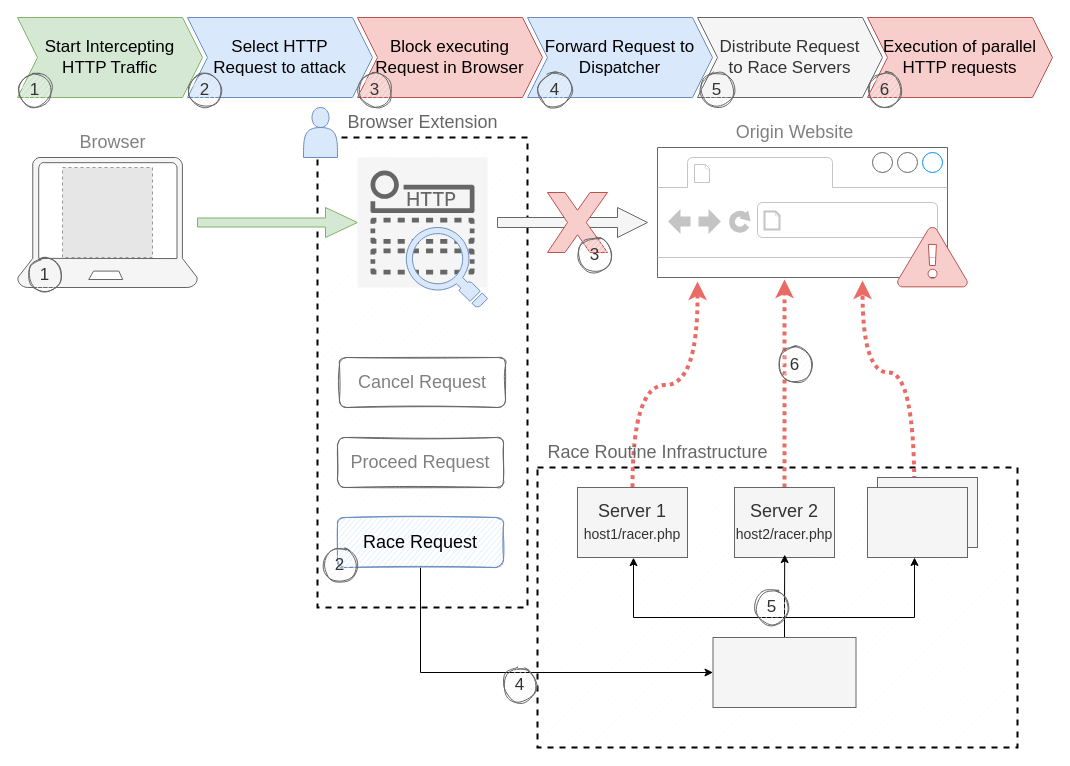
Some shapes in this 1070 by 766 pixel diagram are drawn without their labels. Grey dashed boxes stand in for pictures. The shapes that lost their labels are listed below. From the top down, each one's centre as x and y in pixels, then its label:
the point at 772,172: Page 1
the point at 862,220: https://example.org
the point at 446,267: Interceptor
the point at 917,522: Server n host3/racer.php
the point at 784,672: Dispatcher host1/dispatcher.php
